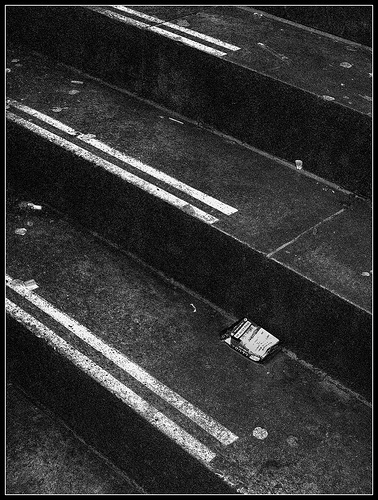litter: (217, 315, 280, 364)
